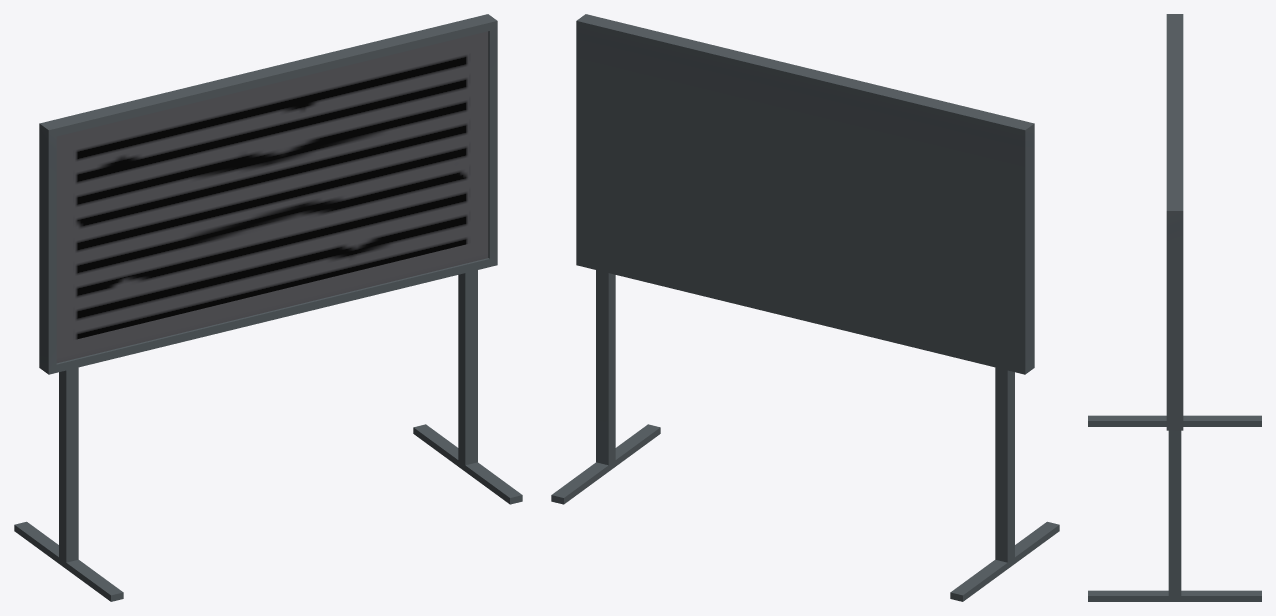
The model's file is Board.fbx.
The picture shows the model from 3 angles, left to right: view 1: azimuth 30°, elevation 25°; view 2: azimuth 150°, elevation 25°; view 3: azimuth 270°, elevation 25°; orthographic projection. The views are drawn at different scales.
Visible parts, largest first — view 1: Cube; view 2: Cube; view 3: Cube.
Boxes of the visible parts, box(x1,y1,x2,y2) form: Cube: box(14, 14, 522, 601); Cube: box(551, 14, 1059, 601); Cube: box(1088, 14, 1261, 601).
Size of the model in its own units: 277 by 262 by 103.
